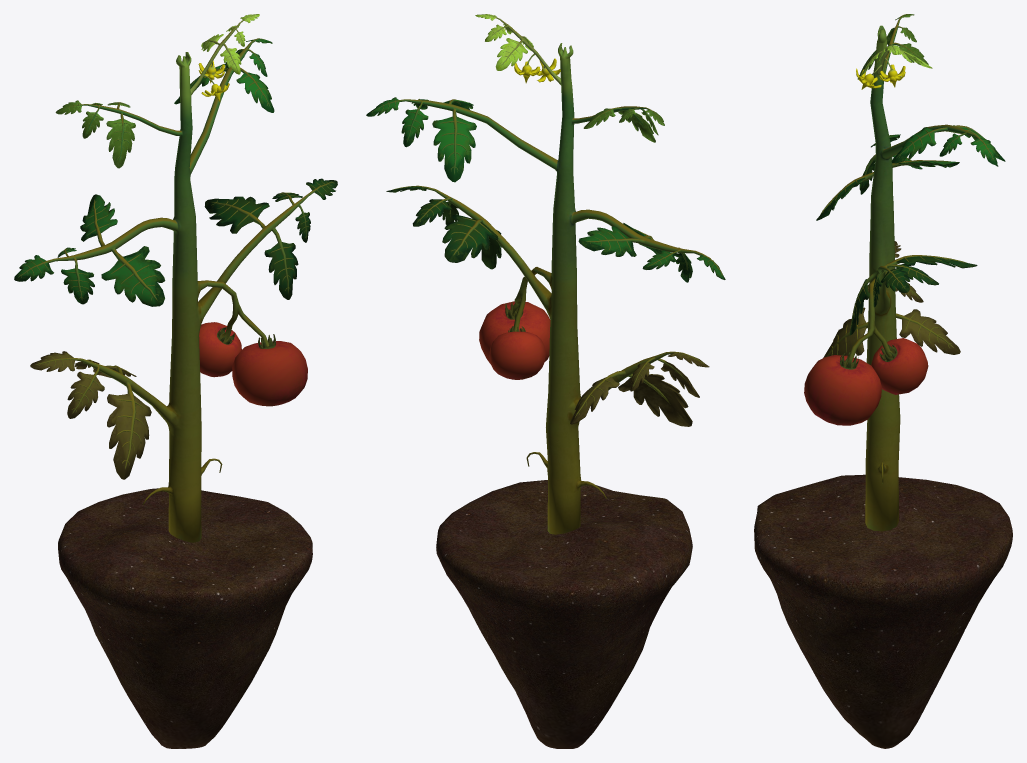
Rendered from tanaman-tomat.glb.
The picture shows the model from 3 angles, left to right: view 1: azimuth 30°, elevation 25°; view 2: azimuth 150°, elevation 25°; view 3: azimuth 270°, elevation 25°; orthographic projection. The views are drawn at different scales.
Visible parts, largest first — view 1: tanah, pohon, buah, buah ke 2, daun; view 2: tanah, pohon, buah ke 2, buah; view 3: tanah, pohon, buah, buah ke 2, daun.
Part boxes in pixels (x1,y1,x2,y2): tanah: (58, 488, 312, 748); pohon: (14, 14, 337, 542); buah: (232, 334, 307, 406); buah ke 2: (199, 322, 241, 377); daun: (236, 67, 274, 112); tanah: (436, 480, 692, 748); pohon: (366, 14, 725, 534); buah ke 2: (489, 326, 545, 379); buah: (479, 301, 550, 363); tanah: (754, 474, 1012, 748); pohon: (816, 14, 1005, 531); buah: (804, 352, 881, 425); buah ke 2: (871, 338, 928, 394); daun: (891, 127, 947, 163).
Bounding box in the file's own units: 1.5 × 3.1 × 0.996.
Materials: 8 (8 with a texture image).
